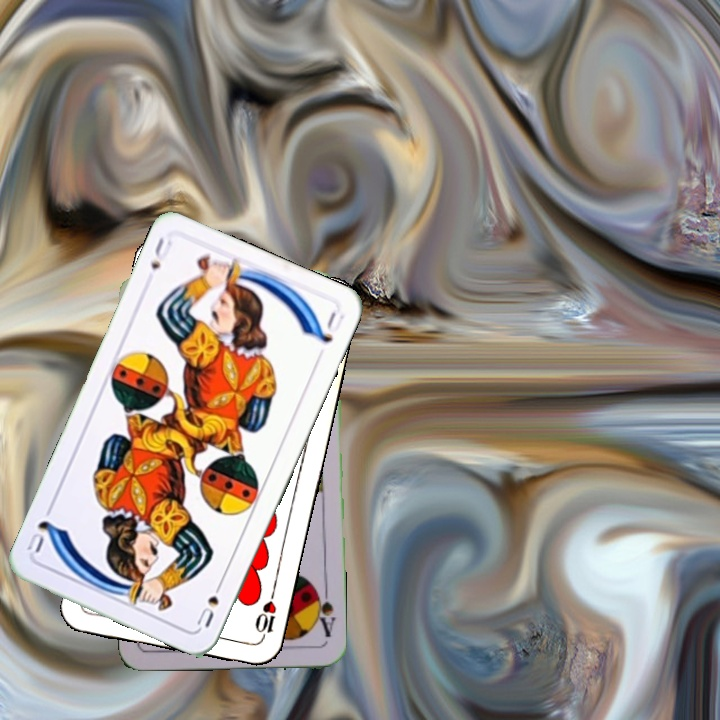H10: (251, 586, 279, 644)
SA: (311, 584, 338, 640)
SU: (192, 575, 226, 630), (147, 233, 175, 272)
